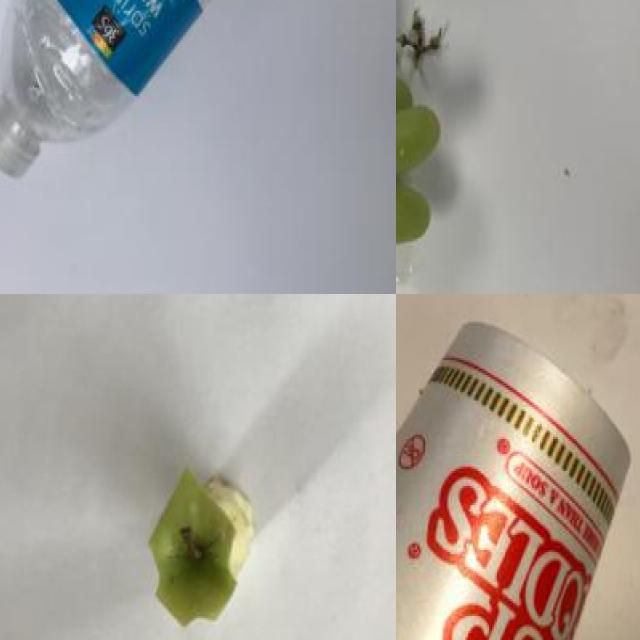compost: (143, 465, 264, 631), (396, 0, 463, 263)
plastic: (0, 0, 336, 194)
trash: (396, 300, 640, 640)
